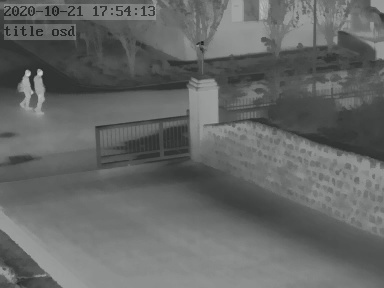person: (32, 66, 48, 117), (19, 68, 32, 111)
